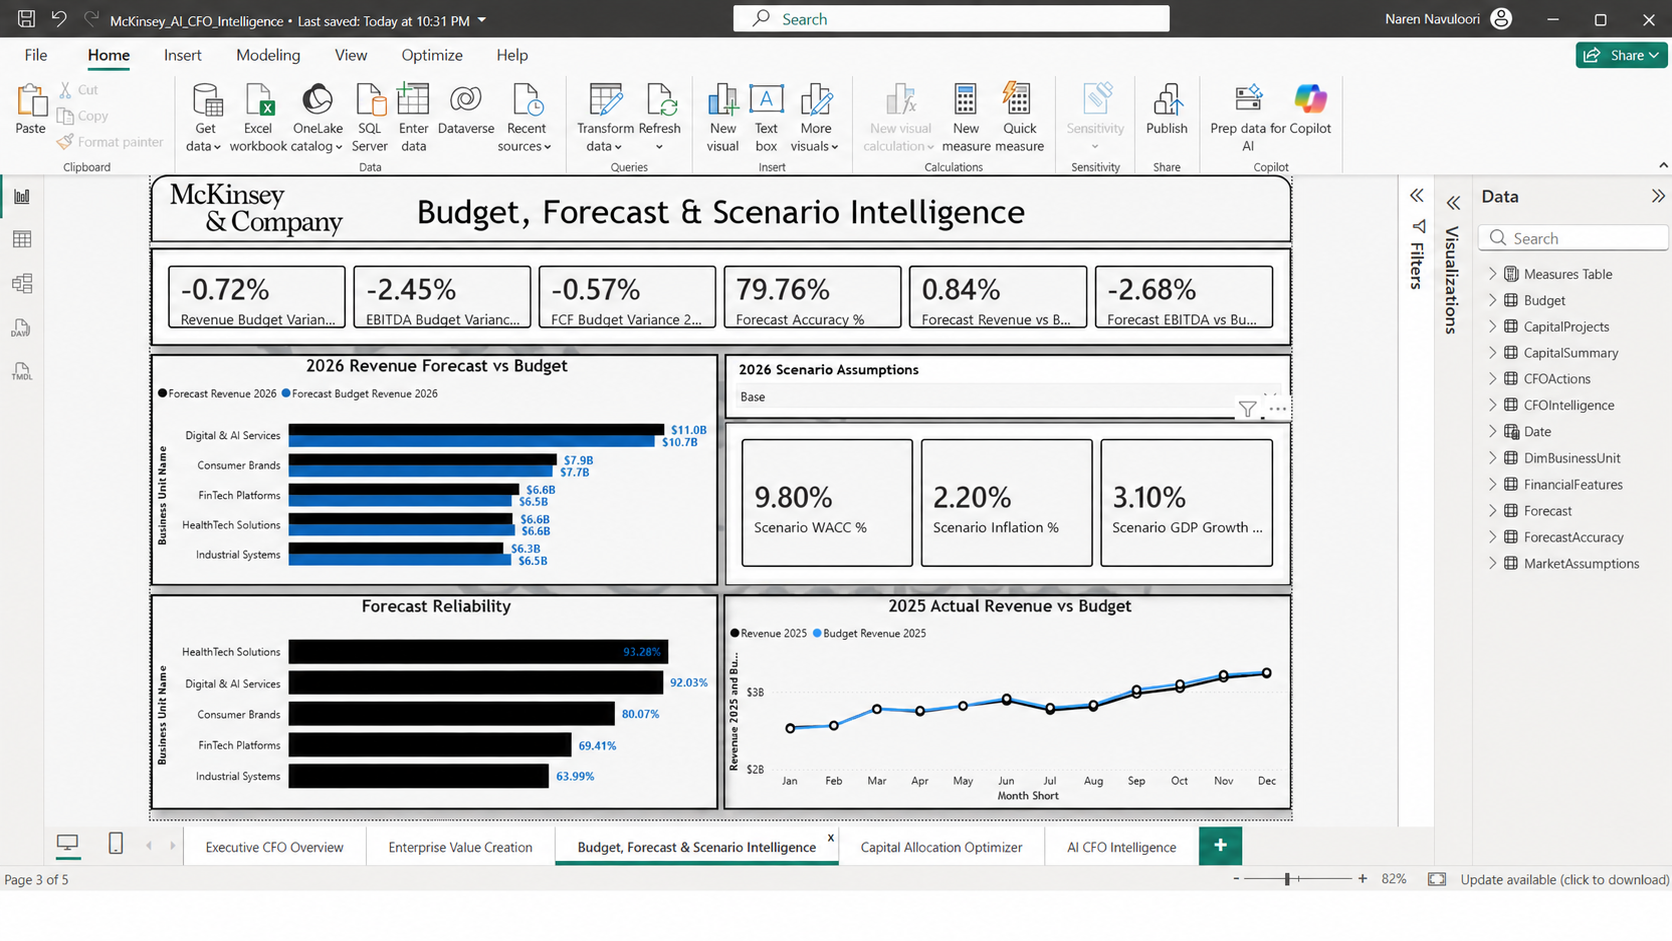

This screenshot's page, from the dashboard's own definition file:
{"tool":"powerbi","page":{"name":"Budget, Forecast & Scenario Intelligence","canvas":[1280,720],"ordinal":2},"visuals":[{"type":"shape","box":[0,0,1280.3,75.8],"z":0},{"type":"image","box":[14,5.1,207.4,66.2],"z":1000},{"type":"cardVisual","fields":{"Data":["Measures Table.Revenue Budget Variance 2025 %","Measures Table.EBITDA Budget Variance 2025 %","Measures Table.FCF Budget Variance 2025 %","Measures Table.Forecast Accuracy %","Measures Table.Forecast Revenue vs Budget %","Measures Table.Forecast EBITDA vs Budget %"]},"box":[0,81.4,1280.3,110.7],"z":2000},{"type":"lineChart","title":"2025 Actual Revenue vs Budget","fields":{"Category":["Date.Month Short"],"Y":["Measures Table.Revenue 2025","Measures Table.Budget Revenue 2025"]},"box":[642.7,469.6,637.6,240.5],"z":3000},{"type":"clusteredBarChart","title":"2026 Revenue Forecast vs Budget","fields":{"Category":["DimBusinessUnit.business_unit_name"],"Y":["Measures Table.Forecast Revenue 2026","Measures Table.Forecast Budget Revenue 2026"]},"box":[0,201.1,637.6,259.6],"z":4000},{"type":"barChart","title":"Forecast Reliability","fields":{"Category":["DimBusinessUnit.business_unit_name"],"Y":["Measures Table.Forecast Accuracy %"]},"box":[0,469.6,637.6,240.5],"z":5000},{"type":"slicer","fields":{"Values":["MarketAssumptions.scenario"]},"box":[643.9,201.1,636.3,73.8],"z":6000},{"type":"cardVisual","fields":{"Data":["Measures Table.Scenario WACC %","Measures Table.Scenario Inflation %","Measures Table.Scenario GDP Growth %"]},"box":[643.9,276.2,636.3,184.5],"z":7000}]}

Visuals, with their boxes on the page's 1280x720 design canvas (x1, y1, x2, y2). These are canvas units, not pixel positions in the 1672x941 screenshot, which may show the page scaled, cropped or inside an application window:
shape: locate(0, 0, 1280, 76)
image: locate(14, 5, 221, 71)
cardVisual - Measures Table.Revenue Budget Variance 2025 % x Measures Table.EBITDA Budget Variance 2025 %: locate(0, 81, 1280, 192)
"2025 Actual Revenue vs Budget" lineChart: locate(643, 470, 1280, 710)
"2026 Revenue Forecast vs Budget" clusteredBarChart: locate(0, 201, 638, 461)
"Forecast Reliability" barChart: locate(0, 470, 638, 710)
slicer - MarketAssumptions.scenario: locate(644, 201, 1280, 275)
cardVisual - Measures Table.Scenario WACC % x Measures Table.Scenario Inflation %: locate(644, 276, 1280, 461)
